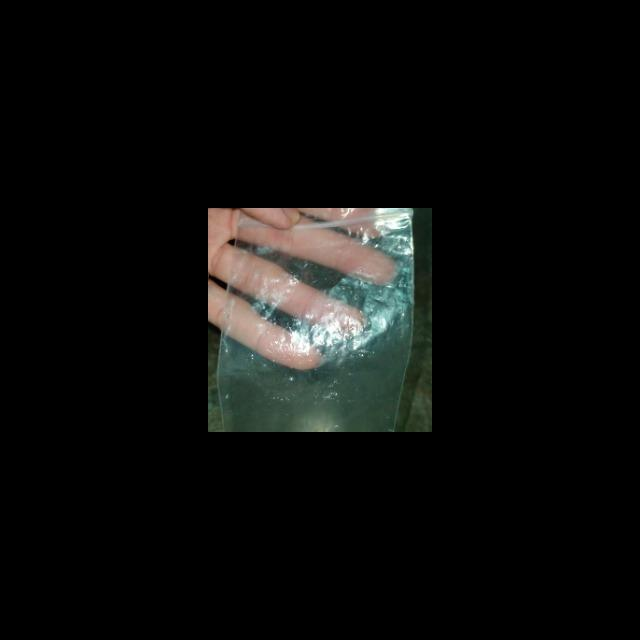plastic: (219, 208, 413, 432)
